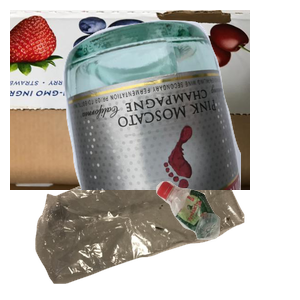cardboard: (10, 10, 250, 190)
glass: (60, 17, 300, 197)
plastic: (153, 178, 300, 300)
trash: (33, 145, 270, 300)
